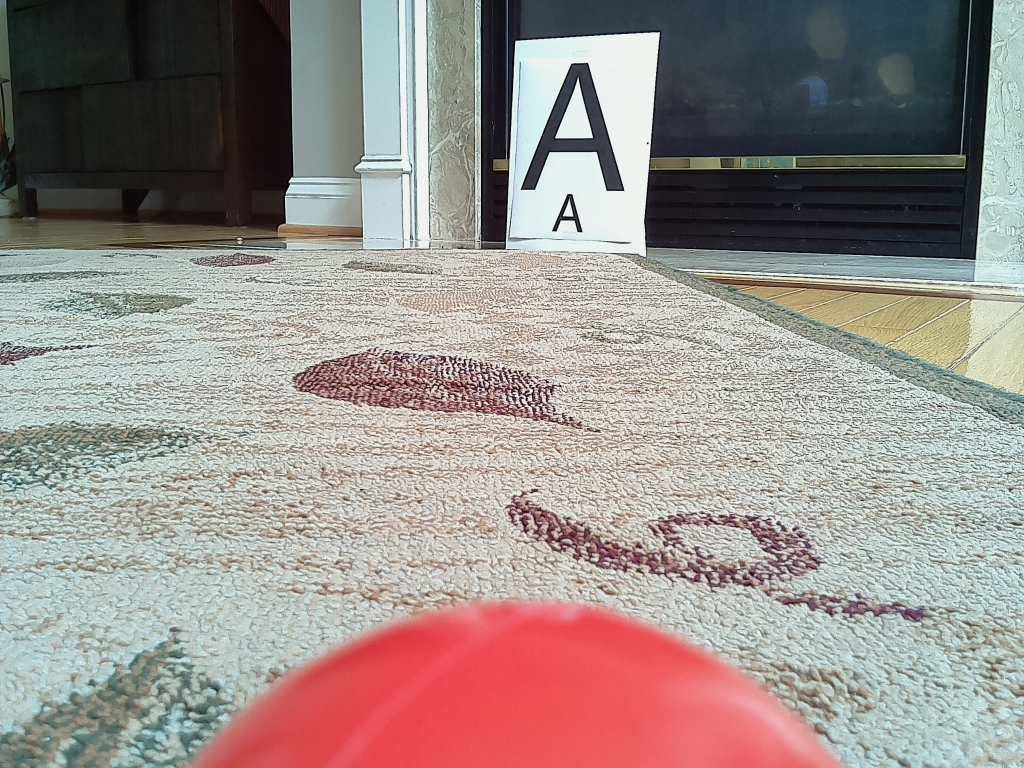letter: (520, 64, 627, 191)
